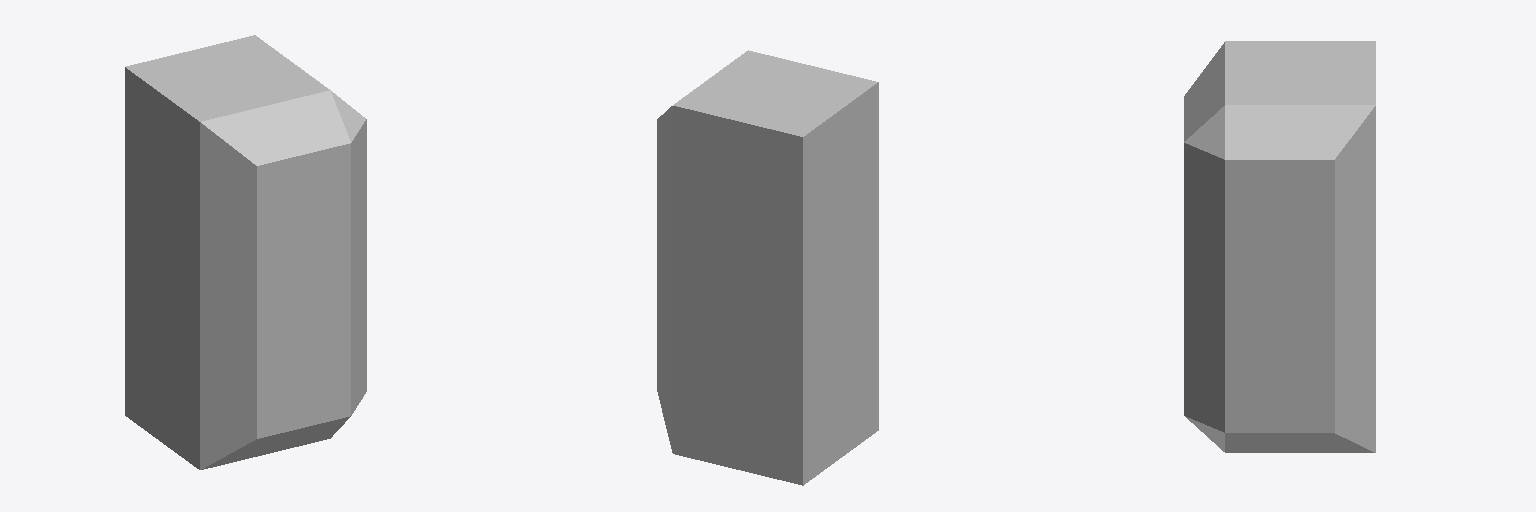
The model's file is Beam_Corner_Type2.obj.
3 renders of one model, left to right at view 1: azimuth 30°, elevation 25°; view 2: azimuth 150°, elevation 25°; view 3: azimuth 270°, elevation 25°, orthographic.
Parts seen in each view (by area): view 1: Beam_Corner_Type2_Cube.181; view 2: Beam_Corner_Type2_Cube.181; view 3: Beam_Corner_Type2_Cube.181.
Boxes of the visible parts, x1,y1,x2,y2 form: Beam_Corner_Type2_Cube.181: [125, 35, 366, 469]; Beam_Corner_Type2_Cube.181: [657, 50, 878, 485]; Beam_Corner_Type2_Cube.181: [1184, 41, 1375, 452].
Size of the model in its own units: 0.125 by 0.25 by 0.125.